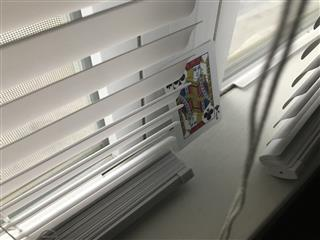JackOfClubs: (160, 40, 222, 150)
